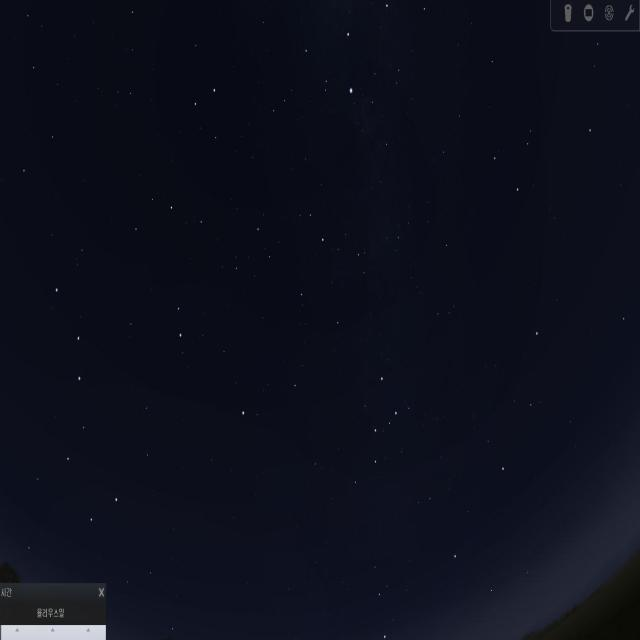cassiopeia: (354, 358, 413, 493)
cygnus: (298, 0, 394, 122)
ursa_major: (46, 276, 128, 541)
